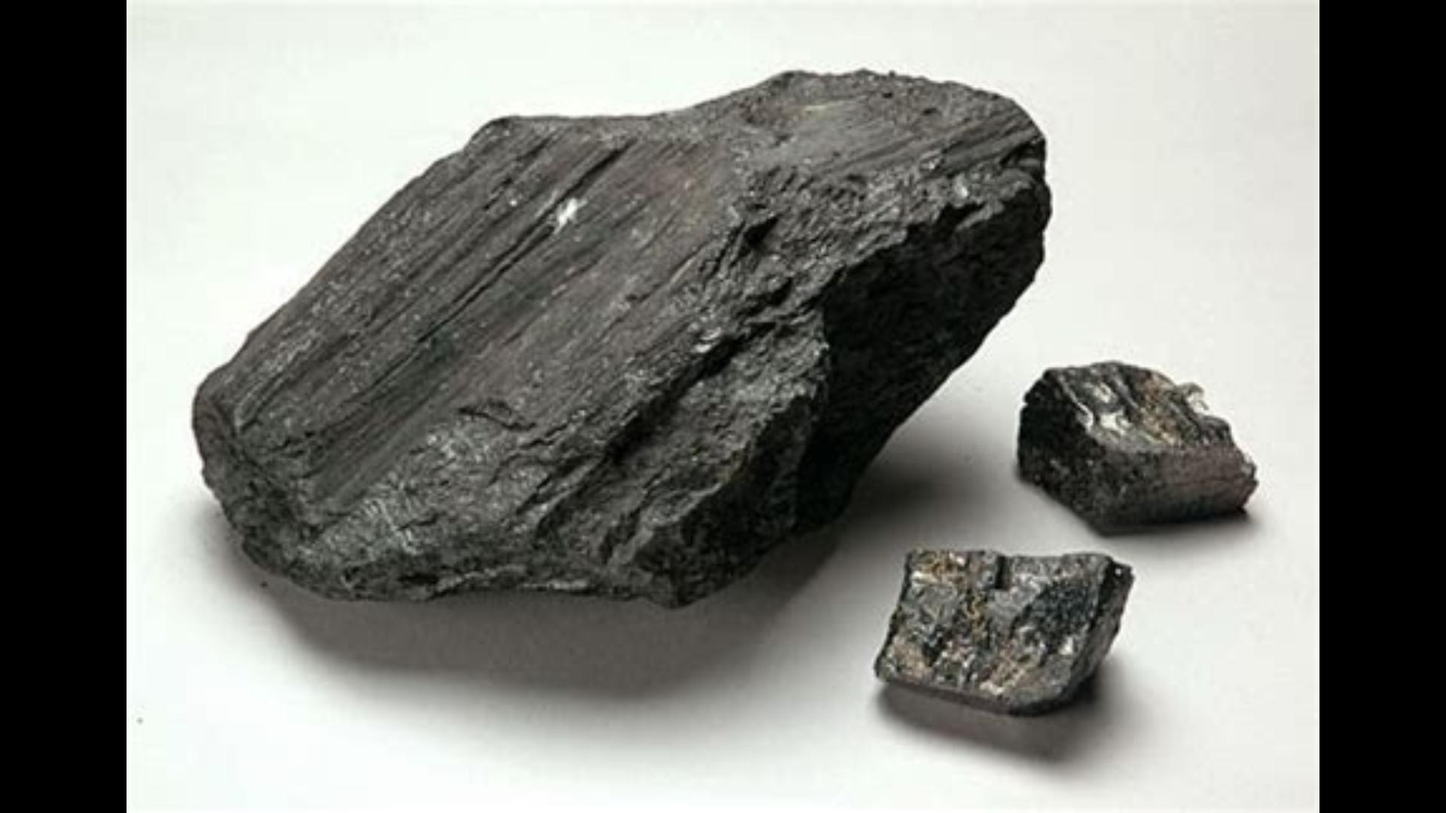rock: (200, 70, 1048, 604), (874, 551, 1131, 712), (1020, 367, 1255, 526)
